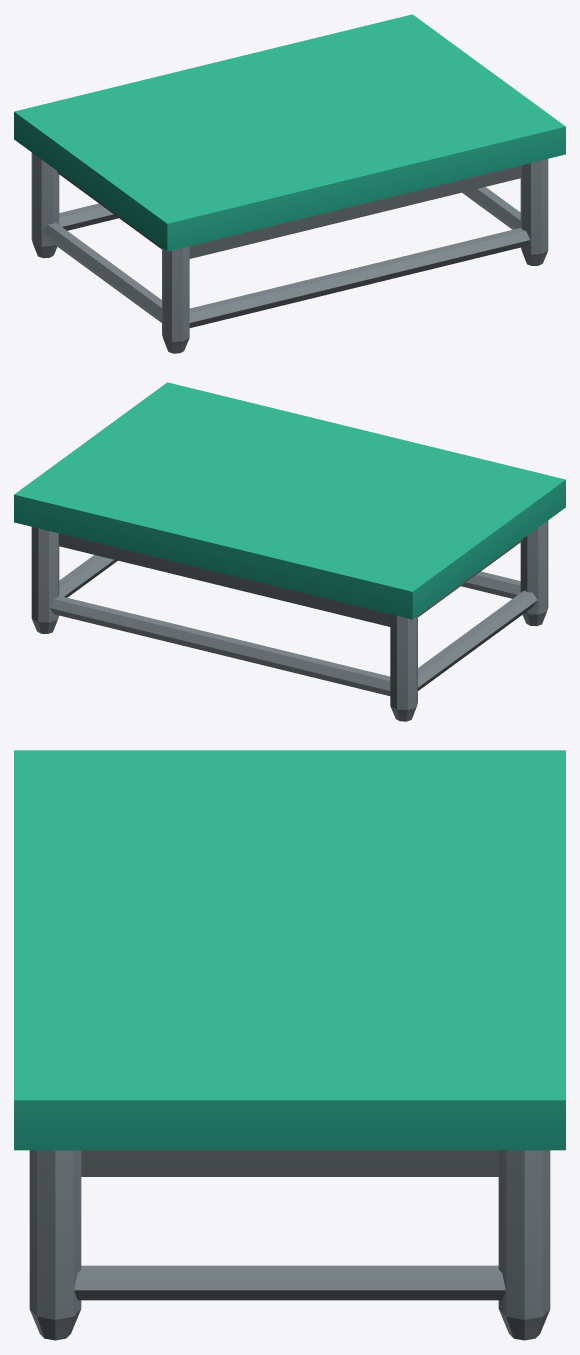
The model's file is Counter.obj.
3 views of the same model, one above another, from view 1: azimuth 30°, elevation 25°; view 2: azimuth 150°, elevation 25°; view 3: azimuth 270°, elevation 25° (orthographic). The views are drawn at different scales.
Parts seen in each view (by area): view 1: Cube.184; view 2: Cube.184; view 3: Cube.184.
Part boxes in pixels (<box>): Cube.184: <box>14,14,565,353</box>; Cube.184: <box>14,382,565,721</box>; Cube.184: <box>14,750,565,1340</box>.
Bounding box in the file's own units: 3 × 1 × 2.
Materials: 1 (1 with a texture image).
